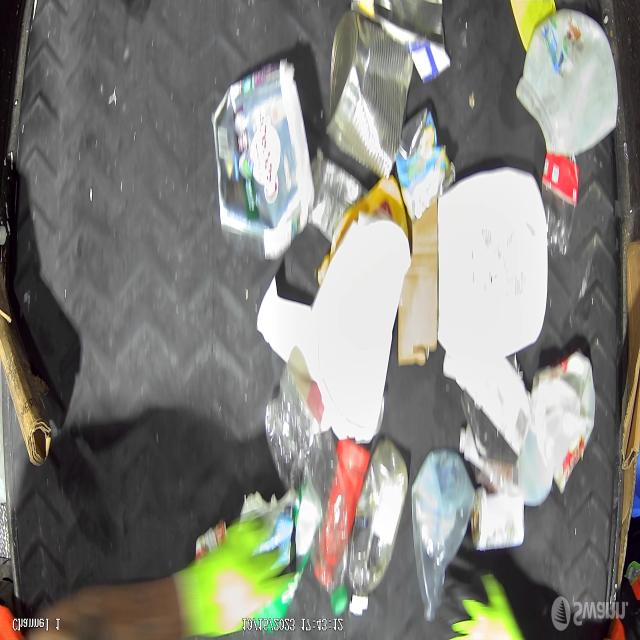can: (327, 10, 413, 176), (469, 486, 528, 556)
milk_jug: (439, 162, 546, 366), (515, 0, 614, 161), (531, 343, 597, 497)
plastic_bottle: (264, 362, 350, 616), (347, 440, 408, 622), (538, 153, 580, 253)
